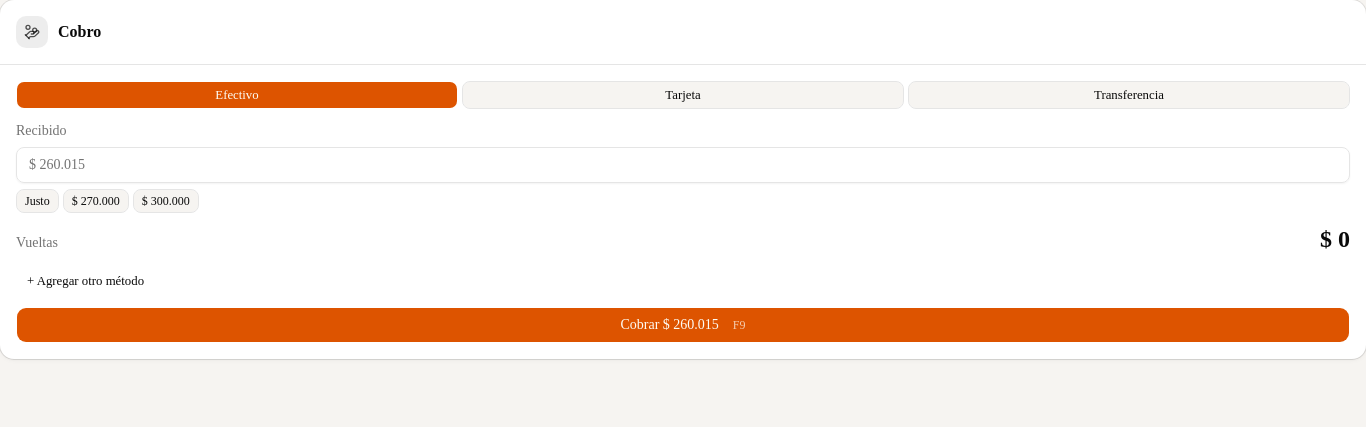
Test: TarjetaCobro › un monto con más de 2 decimales no deja cobrar, con el mismo mensaje del servidor
The image size is (1366, 427).
Click the button "Tarjeta" at x=683, y=95, box [462,81,904,109]
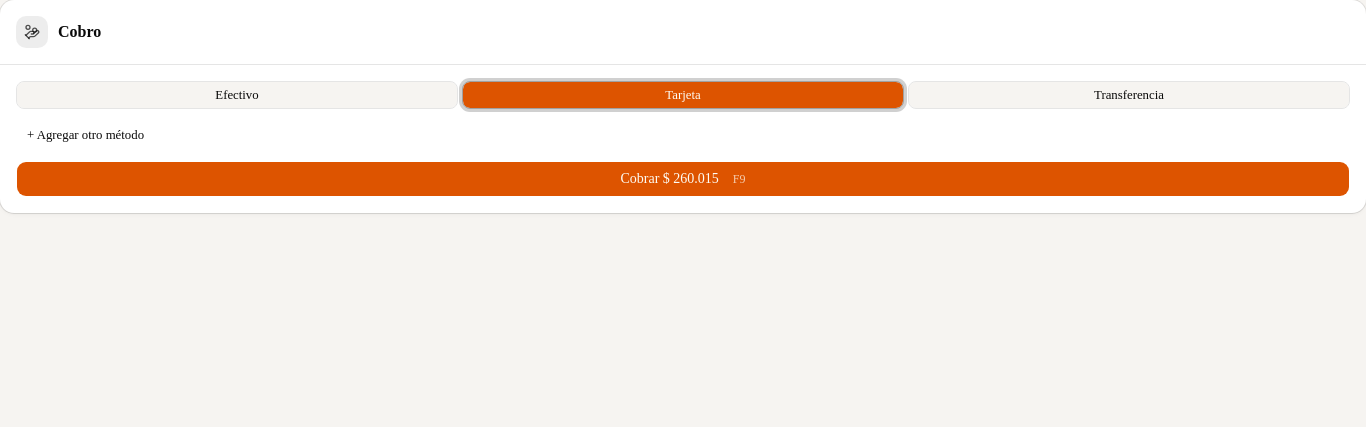
Click the button "+ Agregar otro método" at x=86, y=135, box [16,121,155,149]
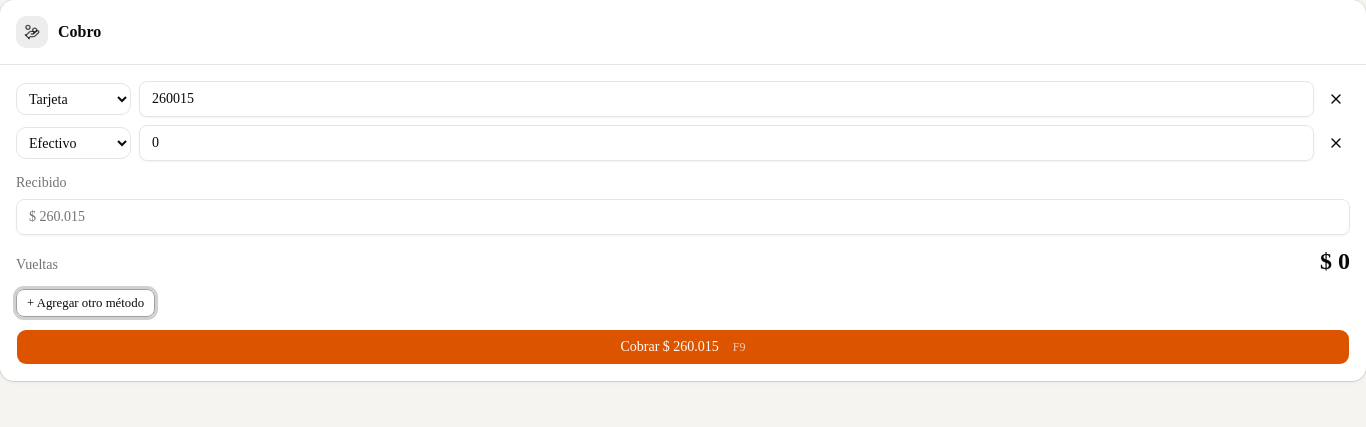
Replace the text in the number field named "Monto del pago 1" with "1000.555" at x=726, y=99, box [139,81,1314,117]
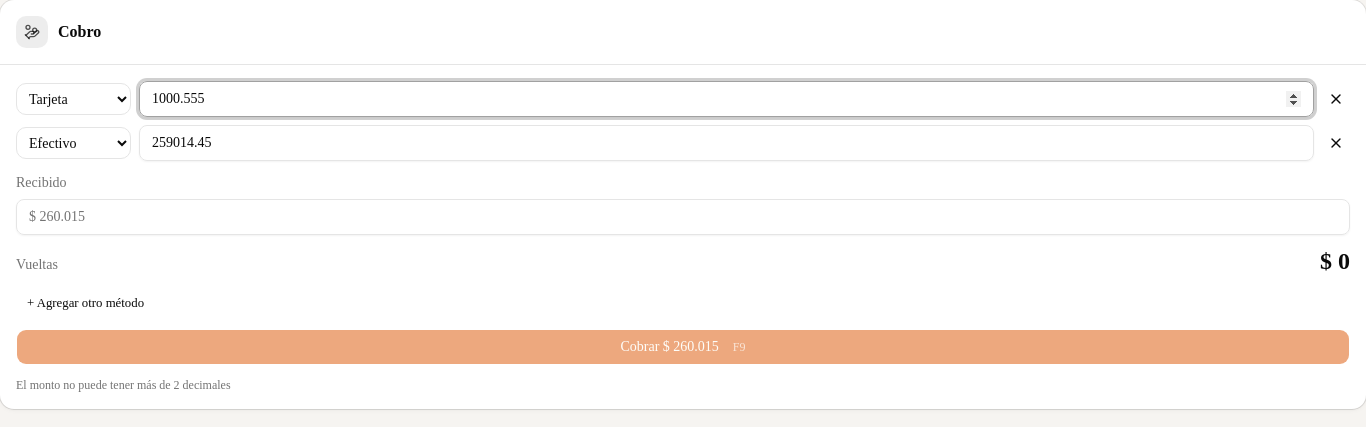
Check: the text "El monto no puede tener más de 2 decimales" is shown, box [16,378,231,392]
Check: the button "Cobrar $ 260.015 F9" is disabled, box [16,329,1350,365]
